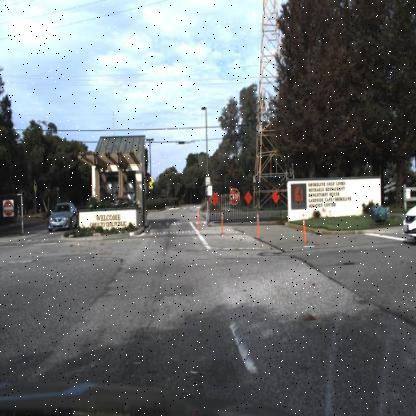car: (47, 200, 77, 231), (400, 199, 415, 249)
